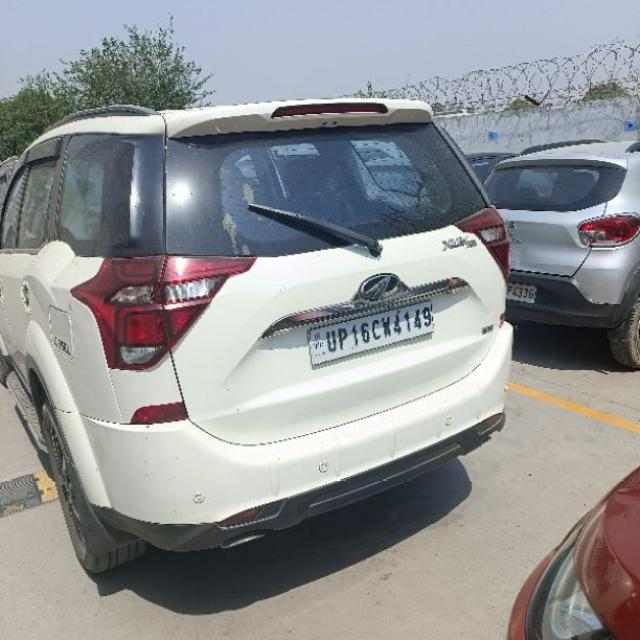license_plate: (305, 299, 435, 367), (505, 280, 538, 304)
